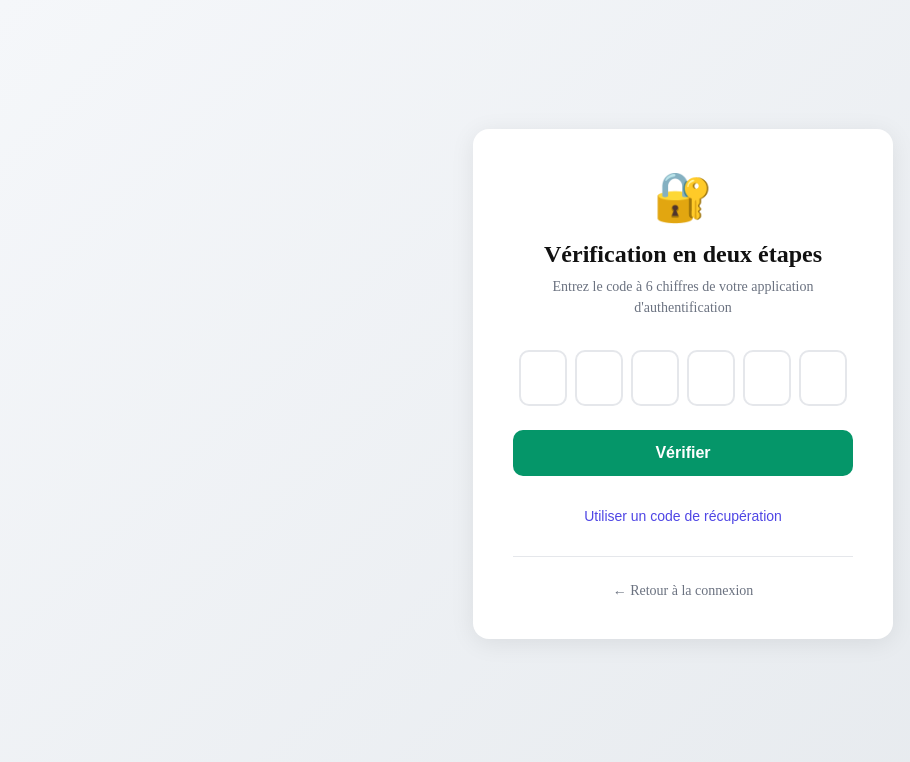
TwoFactorVerify Page › shows recovery code input when clicked
Click the button "Utiliser un code de récupération" at x=683, y=516, box [576, 500, 790, 532]
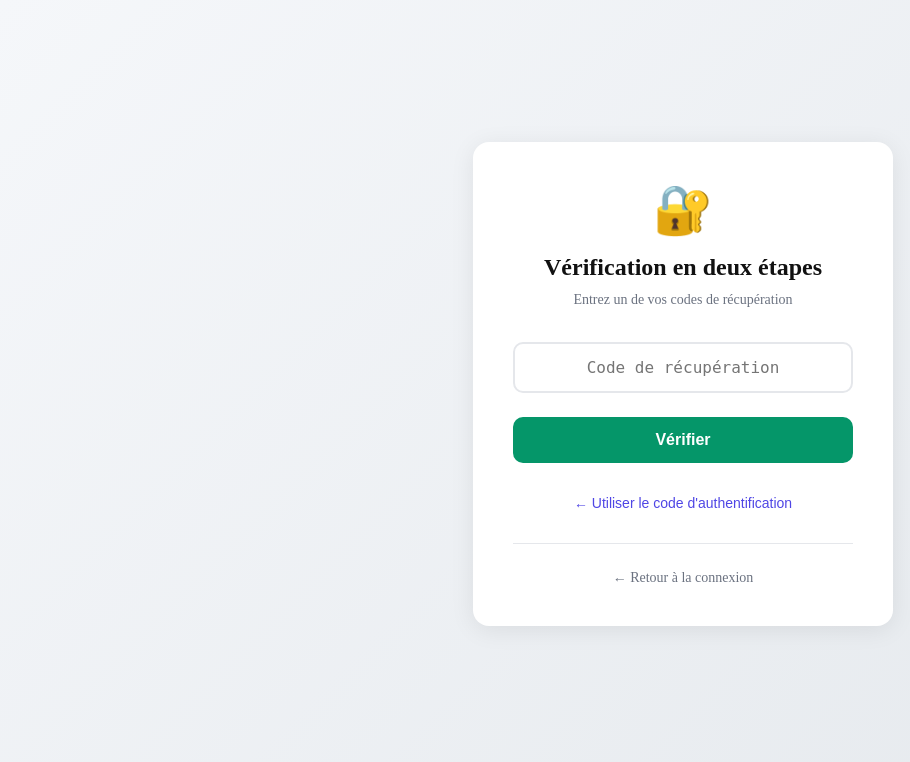
Expected: the field with placeholder "Code de récupération" is shown, [513, 342, 853, 393]
